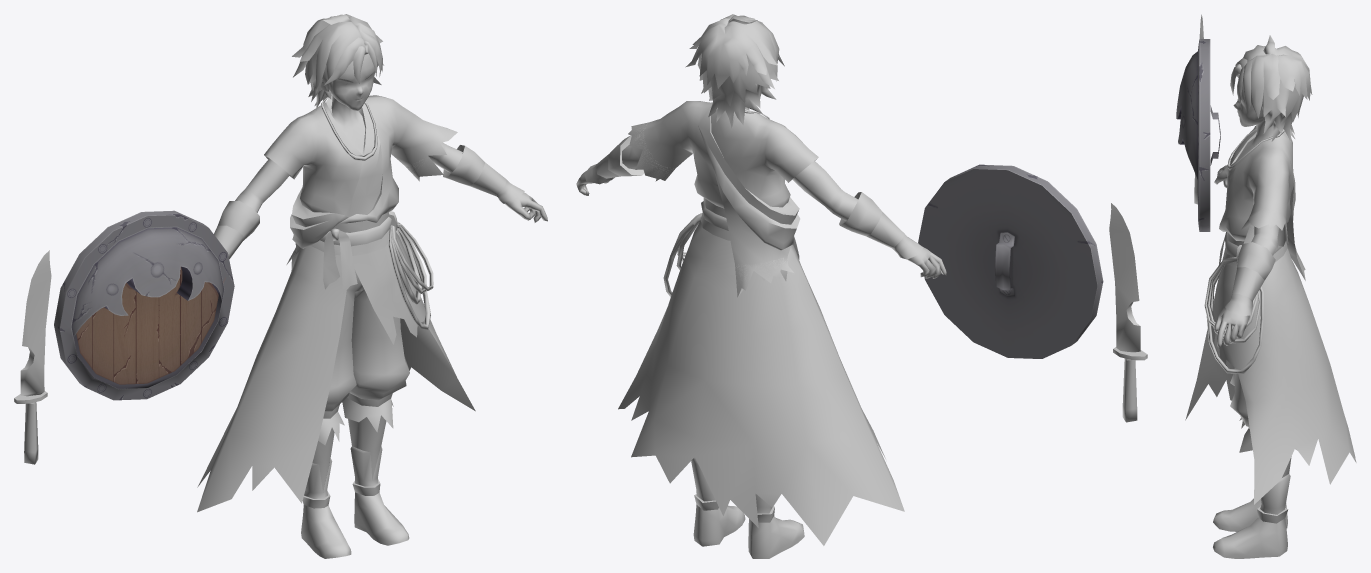
File: m_074_ma_zei_dun_bing_view.fbx
3 renders of one model, left to right at view 1: azimuth 30°, elevation 25°; view 2: azimuth 150°, elevation 25°; view 3: azimuth 270°, elevation 25°, orthographic. The views are drawn at different scales.
Visible parts, largest first — view 1: m_074_ma_zei_dun_bing, m_074_ma_zei_dun_bing_weapon; view 2: m_074_ma_zei_dun_bing, m_074_ma_zei_dun_bing_weapon; view 3: m_074_ma_zei_dun_bing, m_074_ma_zei_dun_bing_weapon.
Part boxes in pixels (x1,y1,x2,y2): m_074_ma_zei_dun_bing: (14, 14, 547, 558); m_074_ma_zei_dun_bing_weapon: (54, 210, 234, 400); m_074_ma_zei_dun_bing: (576, 14, 1147, 558); m_074_ma_zei_dun_bing_weapon: (918, 164, 1103, 358); m_074_ma_zei_dun_bing: (1185, 14, 1356, 558); m_074_ma_zei_dun_bing_weapon: (1176, 39, 1220, 231).
Size of the model in its own units: 248 by 226 by 74.72.
